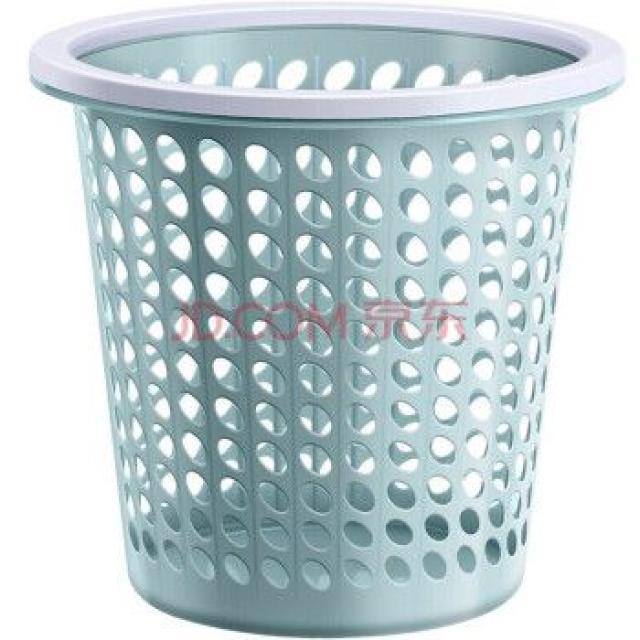dustbin: (22, 0, 635, 640)
